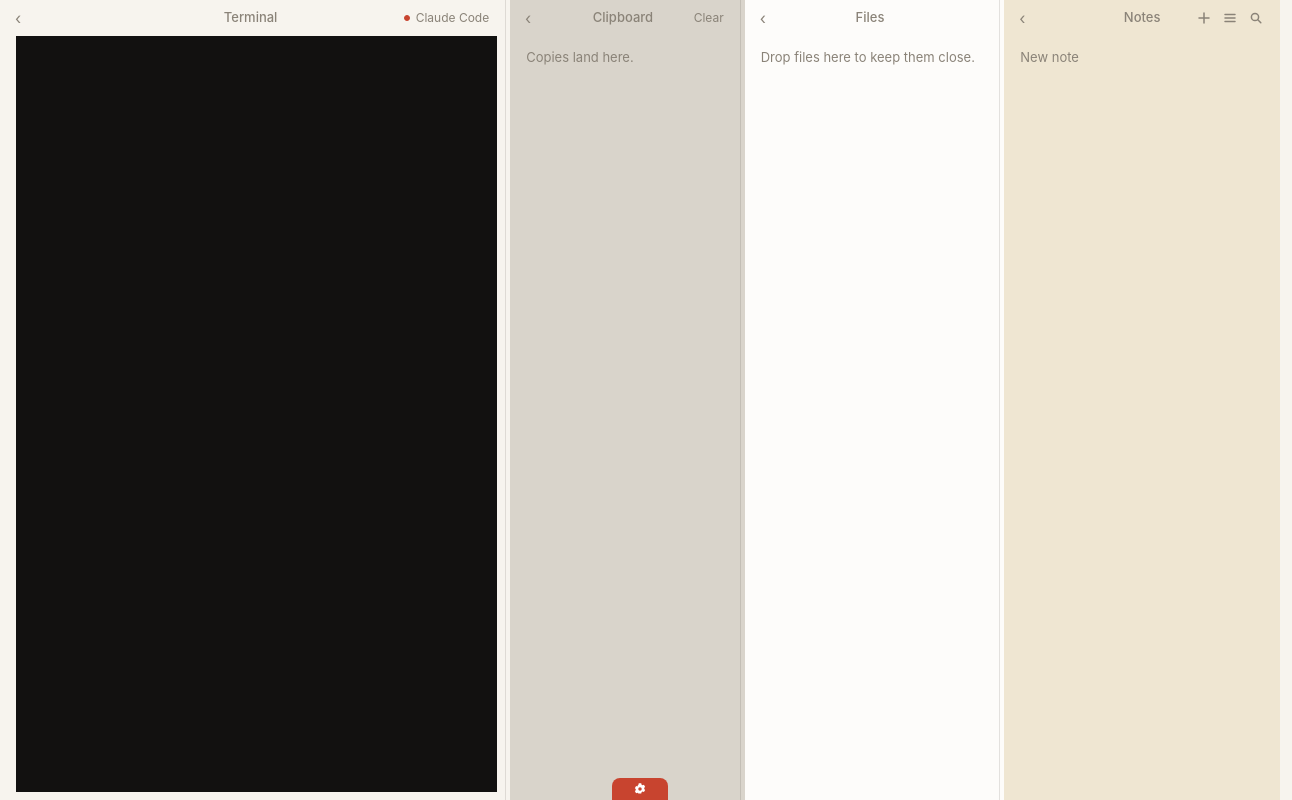
Scenario: the settings handle › only shows the command field for the custom tool
The width and height of the screenshot is (1292, 800).
Click the button named "Settings" at x=640, y=789, box [612,778,668,799]
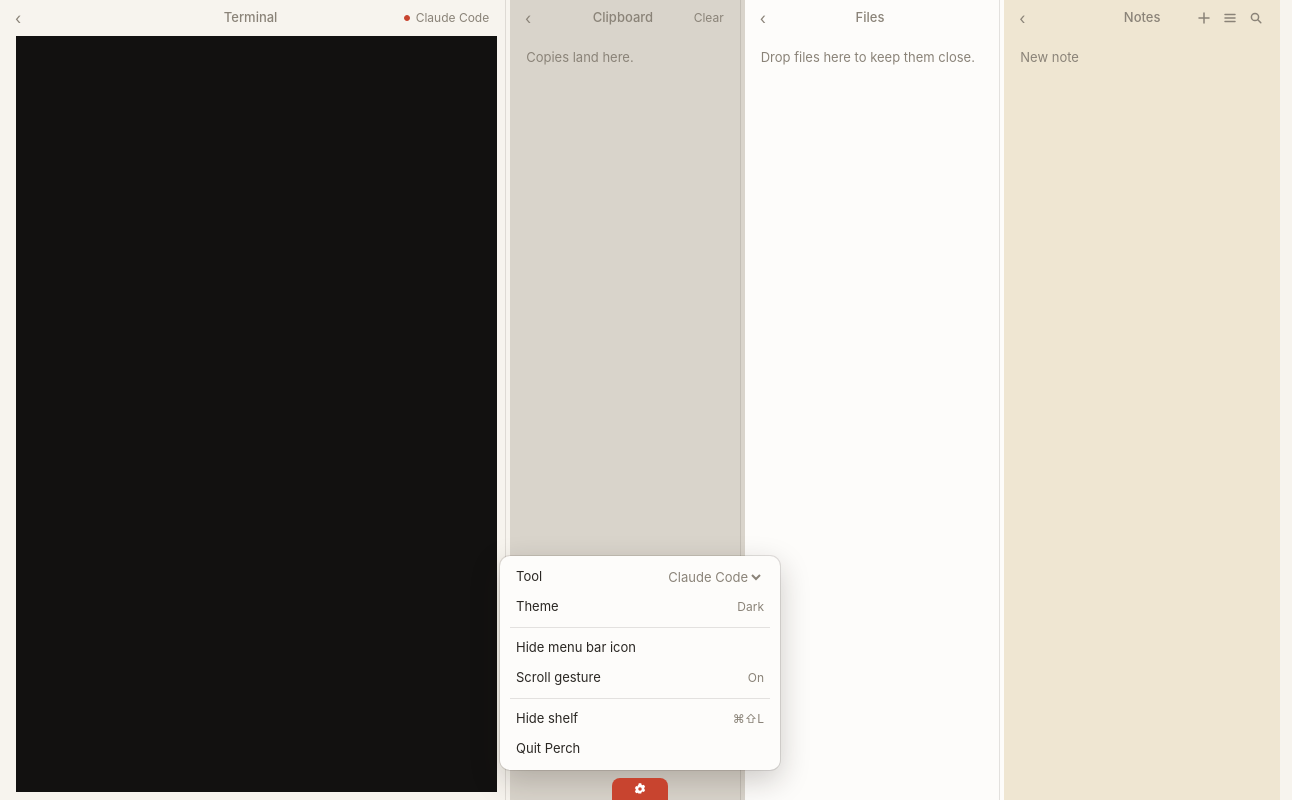
Expected: the field with placeholder "command to run" is not shown
Select "Custom" in the dropdown at x=714, y=577, box [664,568,764,586]
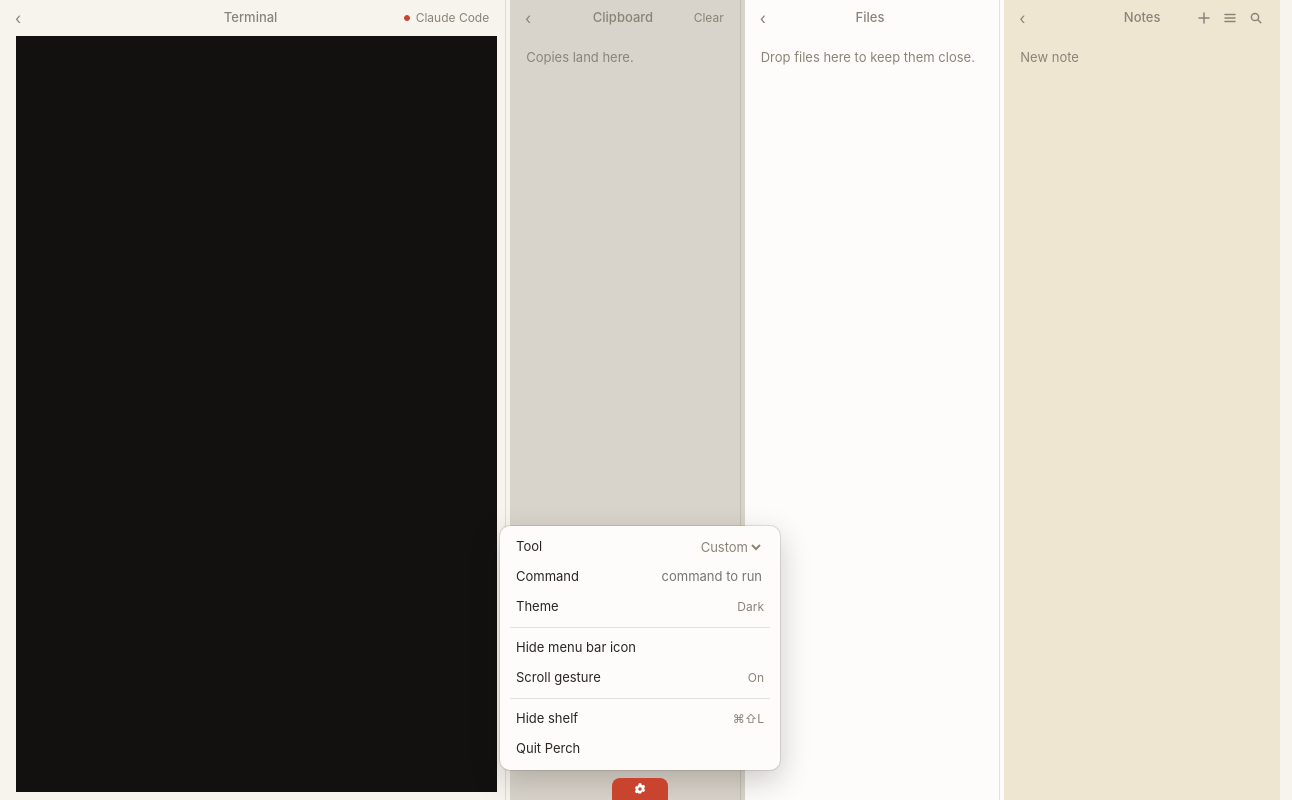
Result: the field with placeholder "command to run" is shown at [614,566,764,588]
